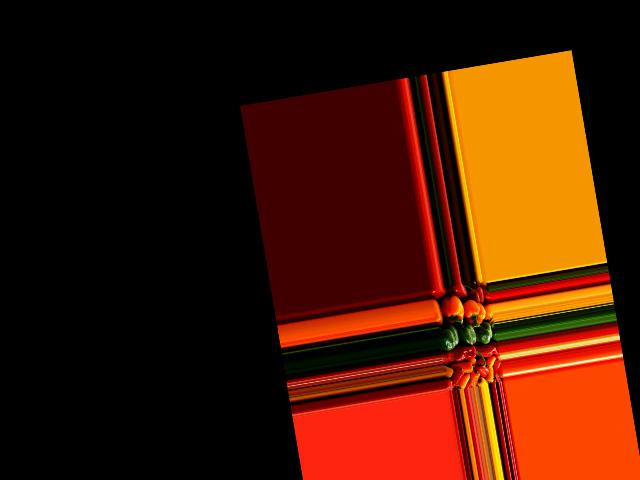bell_pepper: (448, 367, 466, 388)
